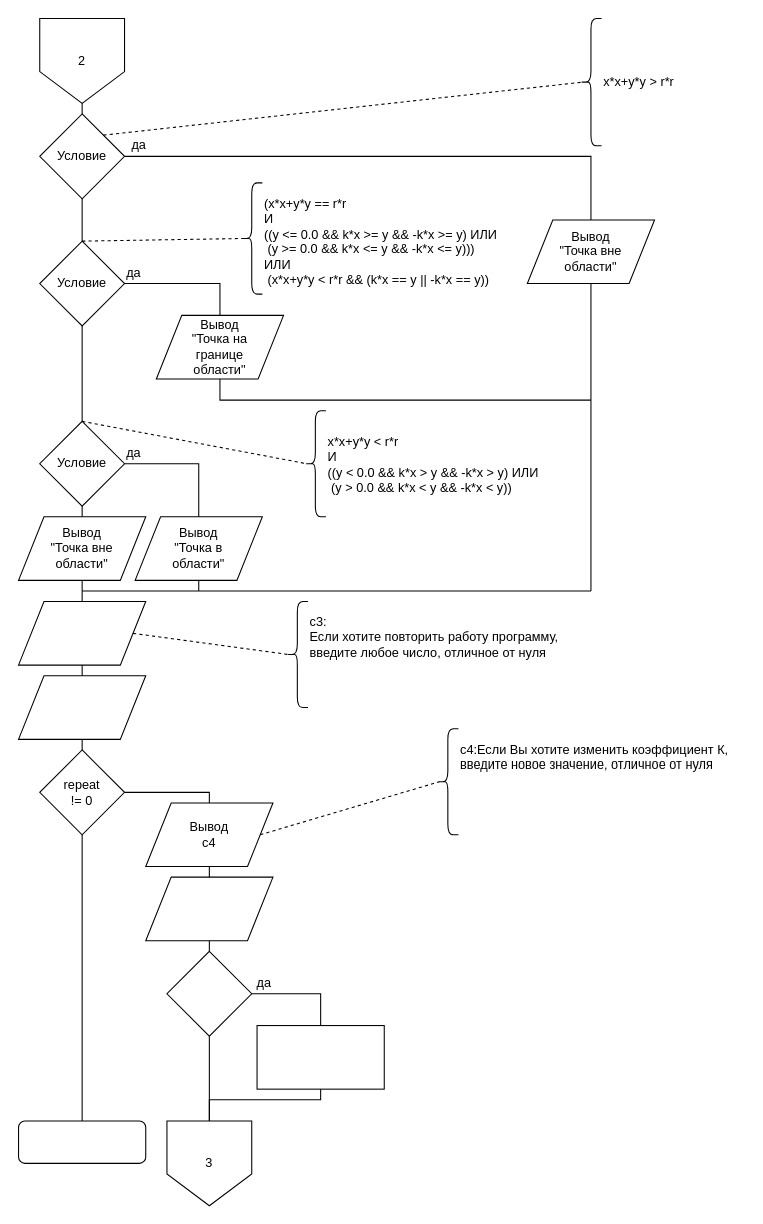
Some shapes in this 763 by 1224 pixel diagram are drawn without their labels. Here are the shapes that lost their labels. From the top down, the centre of each, then its label:
the point at 81,632: Вывод с3
the point at 81,707: Ввод repeat
the point at 209,908: Ввод ans
the point at 209,993: ans > 0
the point at 320,1056: k = ans
the point at 81,1141: конец
